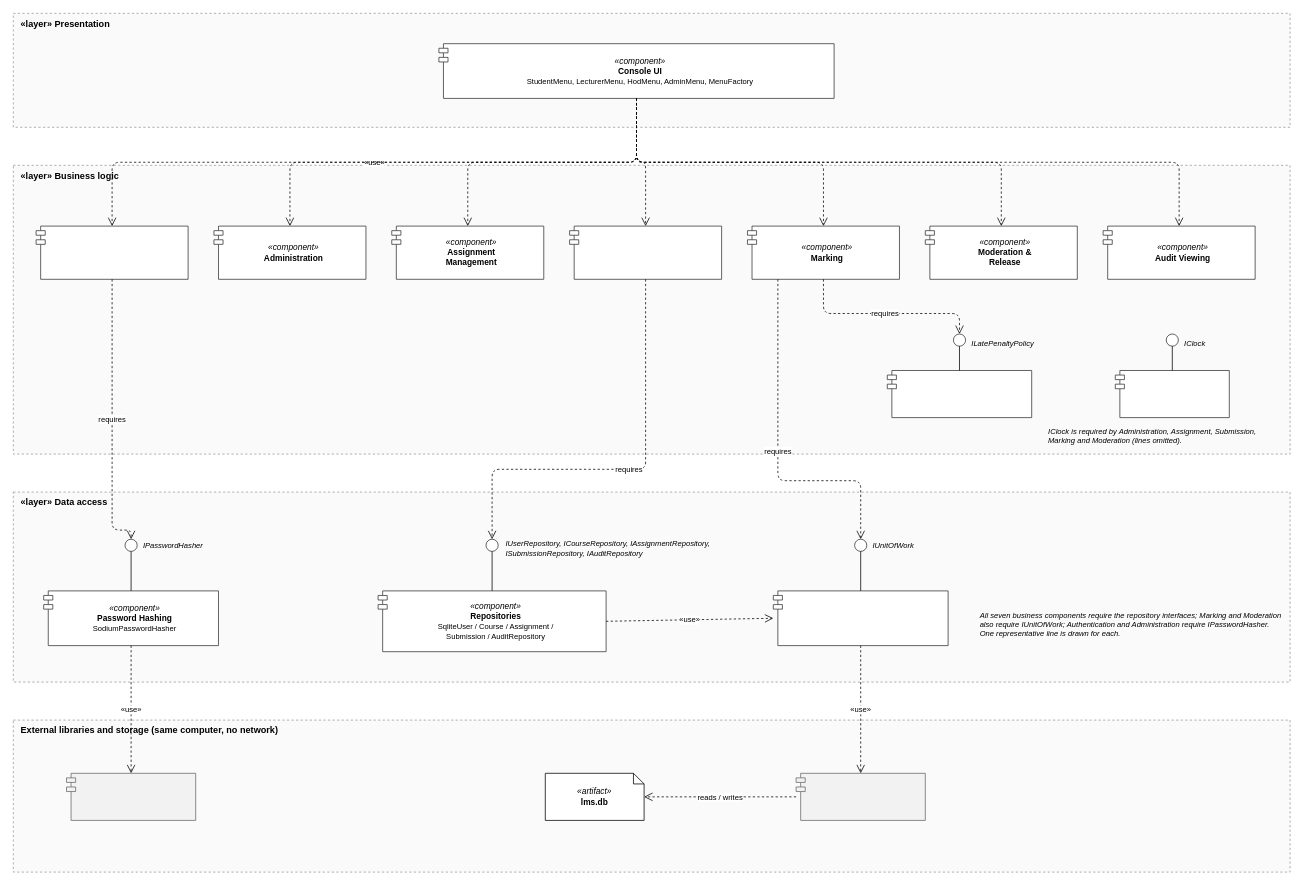
The diagram is 1303 pixels wide and 885 high, and some of its shapes have lost their labels. Each missing label, with the centre of its shape:
"«component» Authentication & Access Control" belongs at (x=111, y=252).
"«component» Clock" belongs at (x=1172, y=394).
"«component» Database Gateway SqliteDatabase, Statement" belongs at (x=860, y=618).
"«component» Late-Penalty Policy" belongs at (x=959, y=394).
"«component» Submission Management" belongs at (x=645, y=252).
"«library» libsodium" belongs at (x=131, y=796).
"«library» SQLite 3" belongs at (x=860, y=796).
